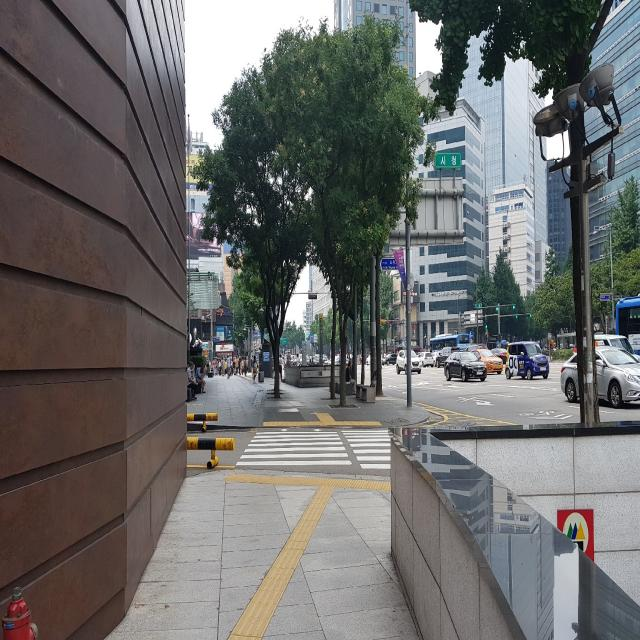횡단보도: (236, 427, 392, 470)
